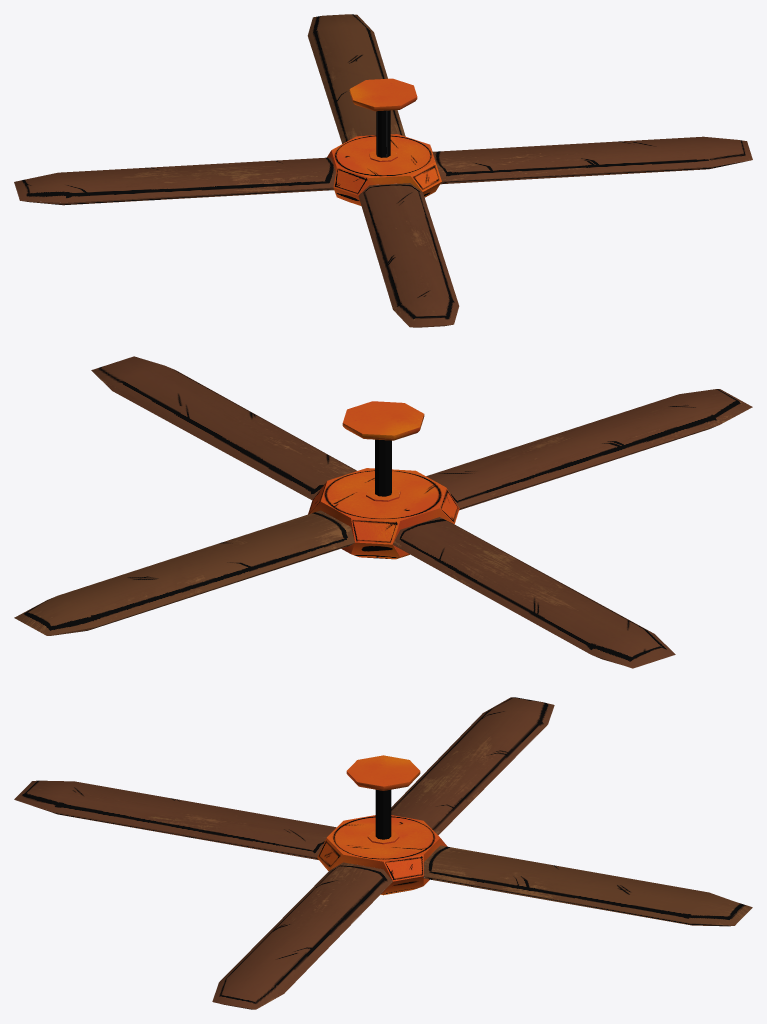
Rendered from Ceiling_Fan.glb.
3 views of the same model, one above another, from view 1: azimuth 30°, elevation 25°; view 2: azimuth 150°, elevation 25°; view 3: azimuth 270°, elevation 25° (orthographic). The views are drawn at different scales.
Parts seen in each view (by area): view 1: Ceiling fan; view 2: Ceiling fan; view 3: Ceiling fan.
Part boxes in pixels (x1,y1,x2,y2): Ceiling fan: (14,14,752,327); Ceiling fan: (14,356,752,668); Ceiling fan: (14,697,752,1009).
Size of the model in its own units: 10.19 by 1.62 by 10.19.
1 material, 1 textured.
